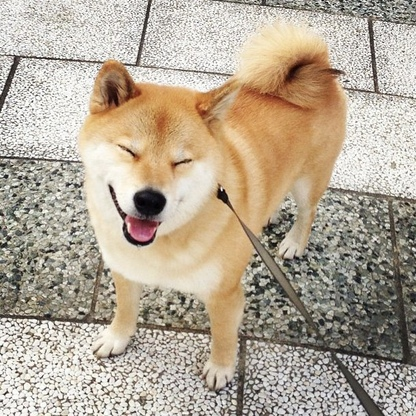shiba: (69, 17, 354, 392)
